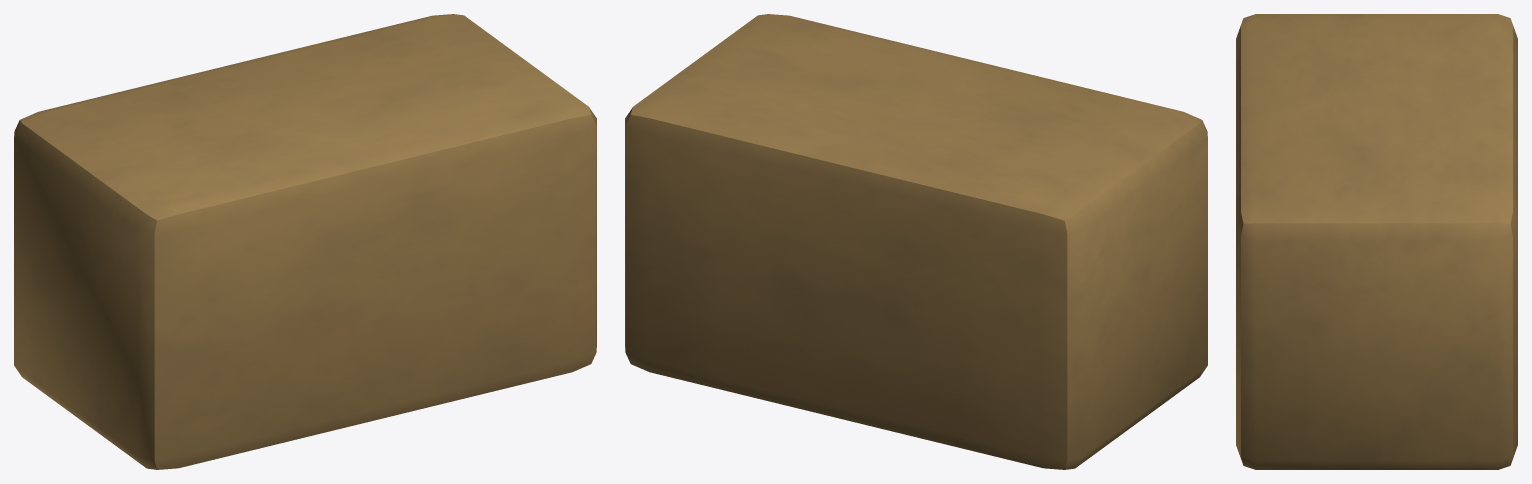
File: Platform Small.fbx
The picture shows the model from 3 angles, left to right: view 1: azimuth 30°, elevation 25°; view 2: azimuth 150°, elevation 25°; view 3: azimuth 270°, elevation 25°; orthographic projection. The views are drawn at different scales.
Visible parts, largest first — view 1: Platform Small; view 2: Platform Small; view 3: Platform Small.
Boxes of the visible parts, x1=… form: Platform Small: x1=14, y1=14, x2=596, y2=469; Platform Small: x1=625, y1=14, x2=1207, y2=469; Platform Small: x1=1236, y1=14, x2=1517, y2=469.
Bounding box in the file's own units: 45.53 × 25 × 25.
